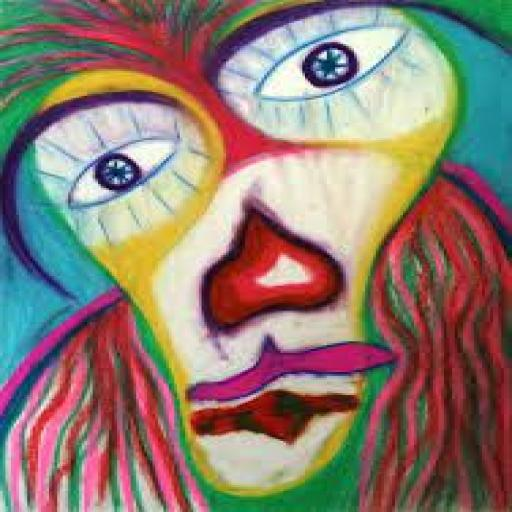person: (1, 0, 498, 510)
